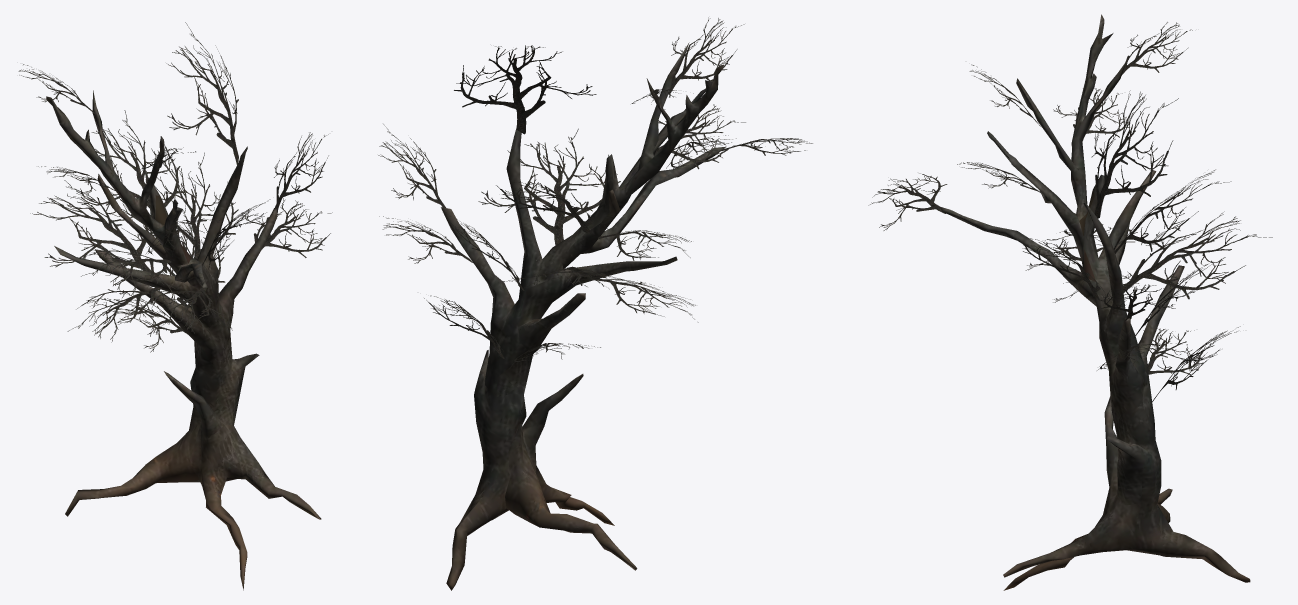
The picture shows the model from 3 angles, left to right: view 1: azimuth 30°, elevation 25°; view 2: azimuth 150°, elevation 25°; view 3: azimuth 270°, elevation 25°; orthographic projection. The views are drawn at different scales.
Parts seen in each view (by area): view 1: tree3; view 2: tree3; view 3: tree3.
Part boxes in pixels (<box>): tree3: <box>18,22,332,590</box>; tree3: <box>378,17,812,590</box>; tree3: <box>868,14,1272,590</box>.
Size of the model in its own units: 4.87 by 7.33 by 5.47.
1 material, 1 textured.
